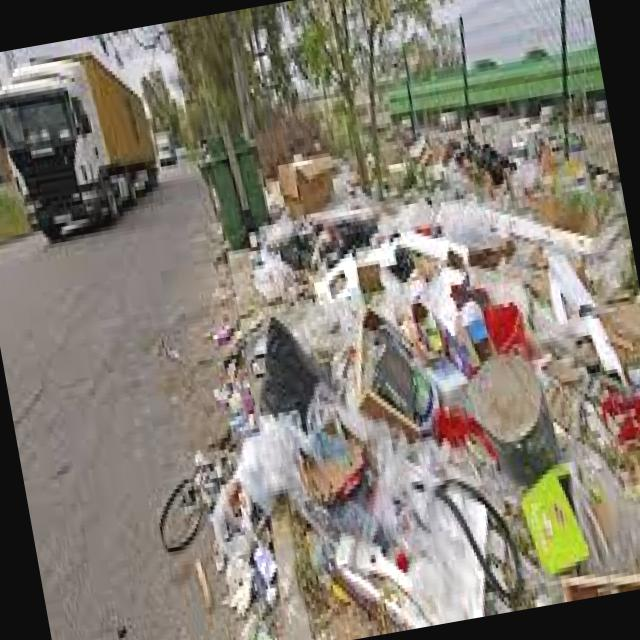garbage: (192, 75, 640, 640)
